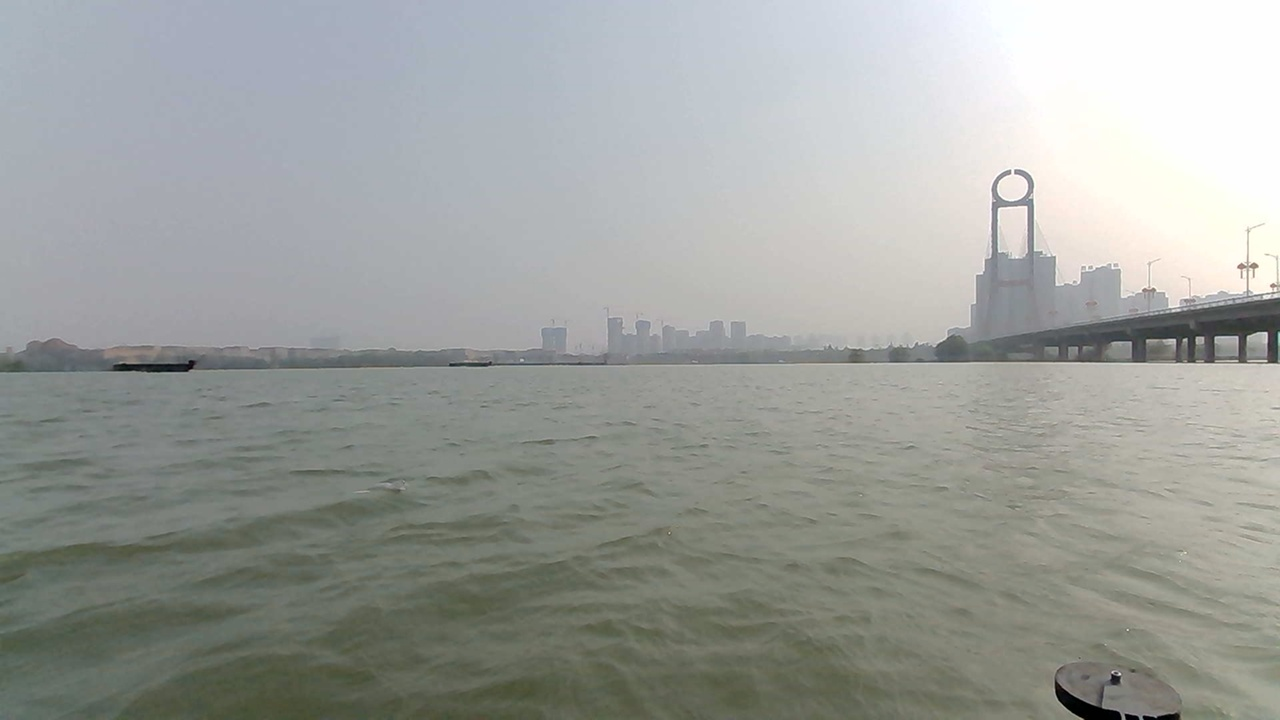bottle: (335, 461, 461, 526)
